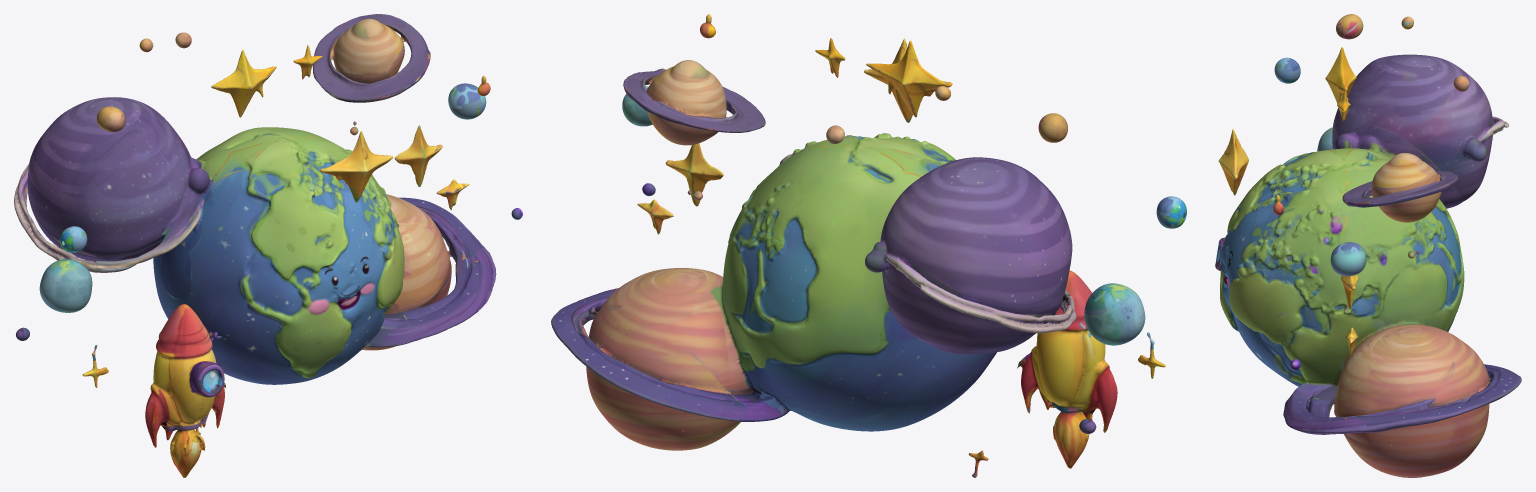
Rendered from space.glb.
3 renders of one model, left to right at view 1: azimuth 30°, elevation 25°; view 2: azimuth 150°, elevation 25°; view 3: azimuth 270°, elevation 25°, orthographic. The views are drawn at different scales.
Size of the model in its own units: 65671 by 50608 by 38837.
1 material, 1 textured.
